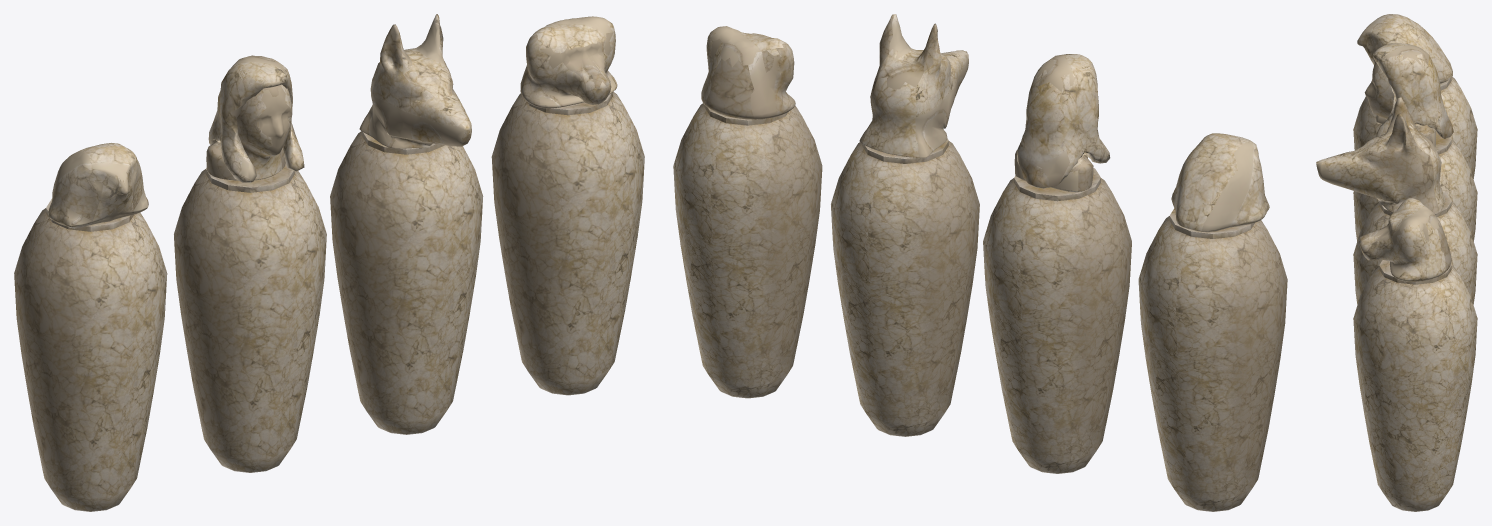
Rendered from Pots.fbx.
3 views of the same model, side by side, from view 1: azimuth 30°, elevation 25°; view 2: azimuth 150°, elevation 25°; view 3: azimuth 270°, elevation 25° (orthographic). The views are drawn at different scales.
Parts seen in each view (by area): view 1: defaultMaterial.001, defaultMaterial.002; view 2: defaultMaterial.001, defaultMaterial.002; view 3: defaultMaterial.001, defaultMaterial.002.
Boxes of the visible parts, left/top/right/bottom form: defaultMaterial.001: left=14, top=92, right=644, bottom=511; defaultMaterial.002: left=48, top=14, right=617, bottom=228; defaultMaterial.001: left=673, top=103, right=1287, bottom=511; defaultMaterial.002: left=701, top=14, right=1269, bottom=232; defaultMaterial.001: left=1353, top=77, right=1477, bottom=511; defaultMaterial.002: left=1316, top=14, right=1453, bottom=281.
Size of the model in its own units: 145 by 93.28 by 41.03.
2 materials, 2 textured.
